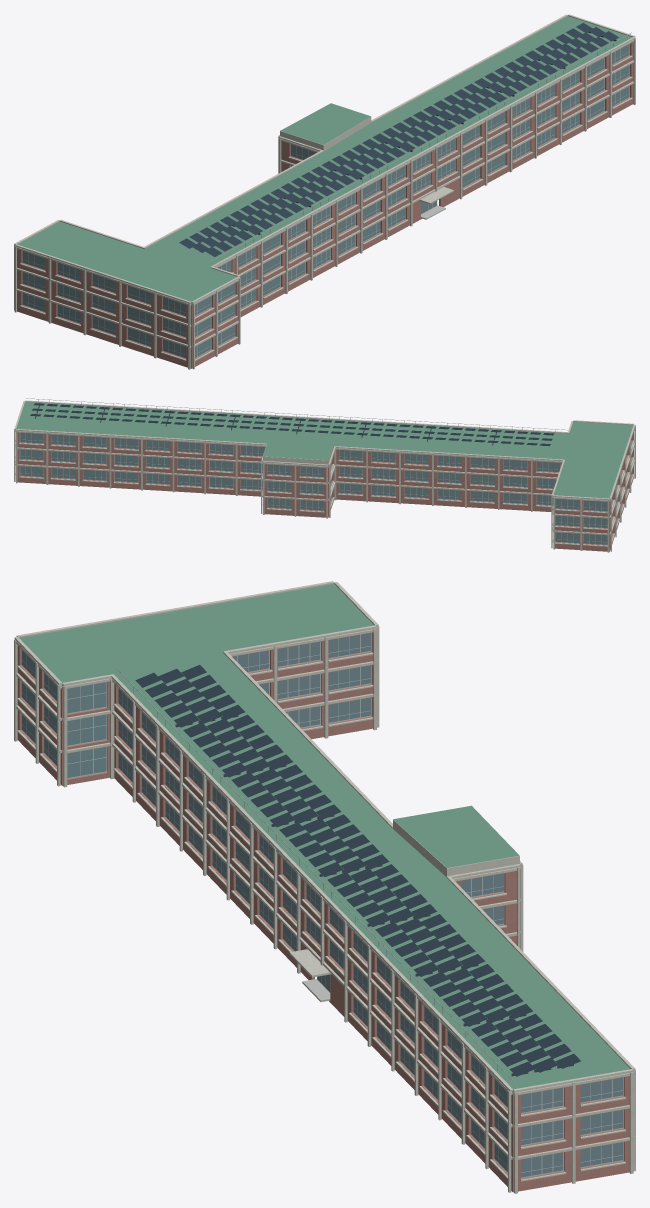
The picture shows the model from 3 angles, top to bottom: view 1: azimuth 30°, elevation 25°; view 2: azimuth 150°, elevation 25°; view 3: azimuth 270°, elevation 25°; orthographic projection. The views are drawn at different scales.
Parts seen in each view (by area): view 1: main__roof, main__white, main__pink, main__glass, main__pv, main__frame, main__metal; view 2: main__roof, main__pink, main__white, main__glass, main__frame, main__pv, main__metal; view 3: main__roof, main__white, main__pink, main__pv, main__glass, main__frame, main__stairglass, main__metal.
Boxes of the visible parts, x1,y1,x2,y2 form: main__roof: (17, 16, 632, 301); main__white: (14, 14, 635, 369); main__pink: (17, 42, 633, 368); main__glass: (22, 44, 629, 357); main__pv: (179, 23, 618, 256); main__frame: (22, 44, 629, 358); main__metal: (210, 32, 631, 261); main__roof: (16, 402, 633, 498); main__pink: (17, 432, 633, 551); main__white: (14, 400, 635, 552); main__glass: (20, 433, 631, 544); main__frame: (19, 433, 617, 544); main__pv: (30, 403, 554, 446); main__metal: (26, 398, 567, 432); main__roof: (19, 584, 630, 1089); main__white: (14, 581, 635, 1193); main__pink: (17, 632, 629, 1192); main__pv: (135, 665, 580, 1076); main__glass: (22, 633, 622, 1177); main__frame: (21, 633, 623, 1178); main__stairglass: (67, 682, 106, 777); main__metal: (116, 668, 514, 1086).
Size of the model in its own units: 115 by 11.68 by 59.28.
10 materials, 2 textured.
